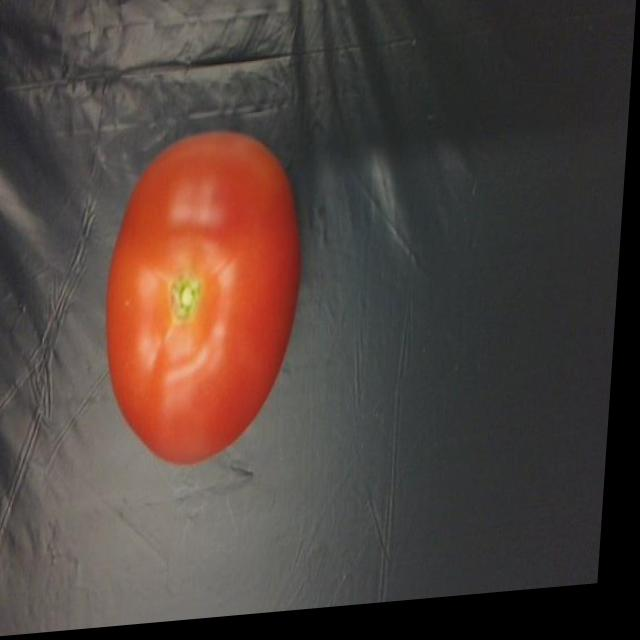kirmizi: (86, 123, 344, 480)
